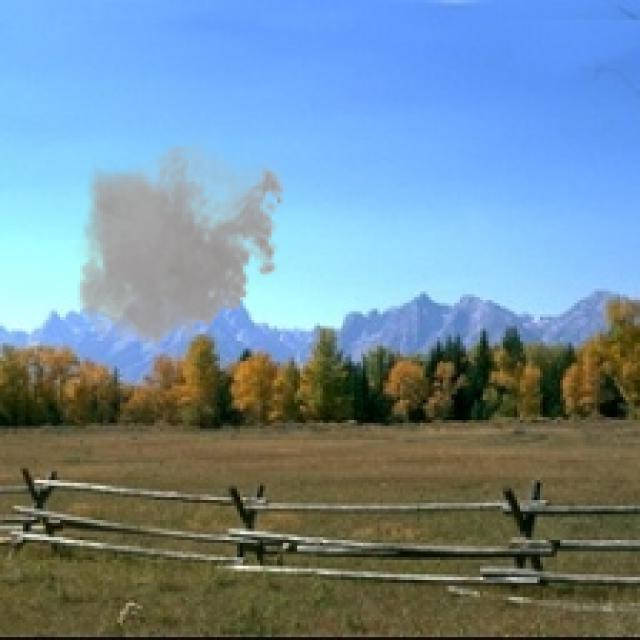Smoke: (68, 132, 292, 358)
